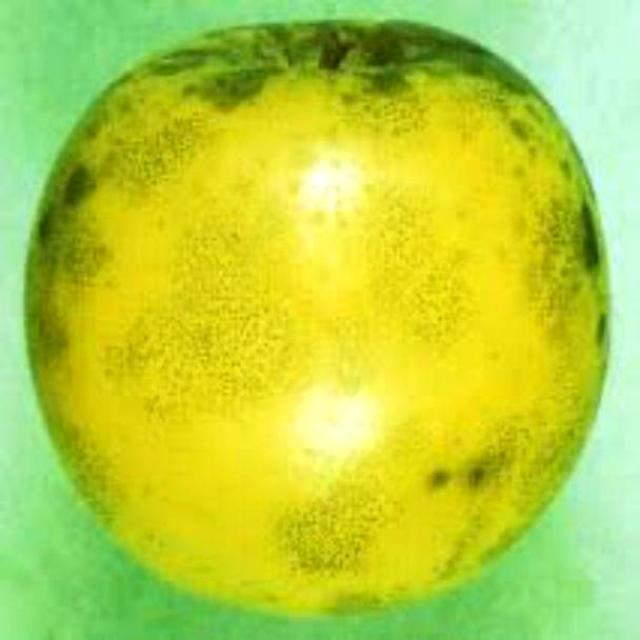BLOTCH: (17, 9, 627, 618)
